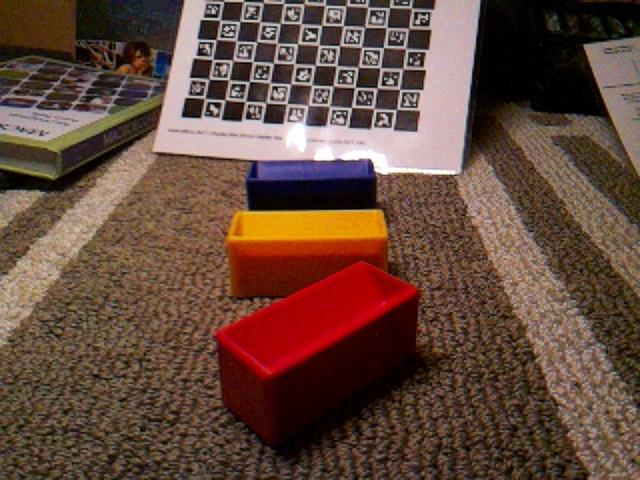blue: (244, 158, 379, 211)
red: (214, 260, 422, 449)
yellow: (225, 208, 390, 299)
